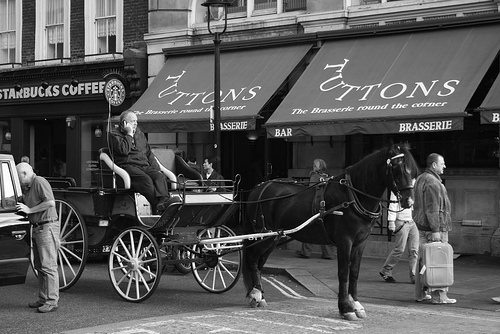horse: (240, 141, 418, 322)
